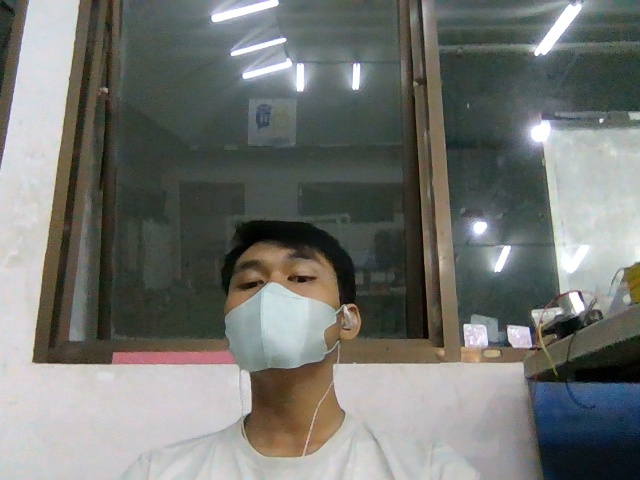mask_on: (226, 282, 338, 370)
